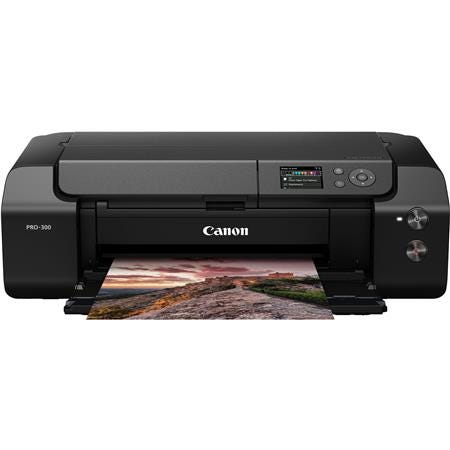printer: (1, 121, 450, 324)
